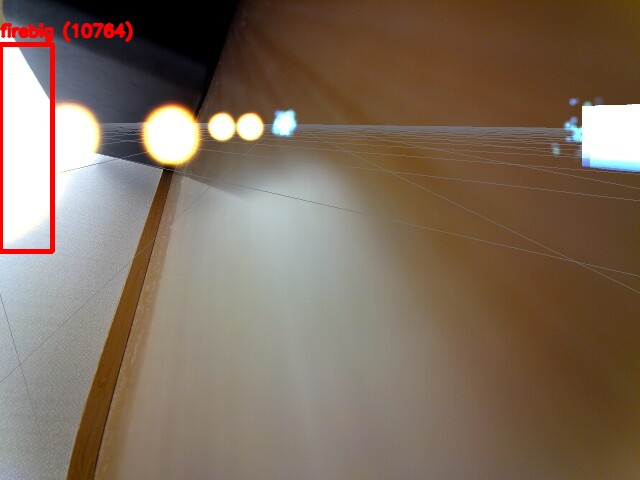firebig: (0, 44, 52, 251)
